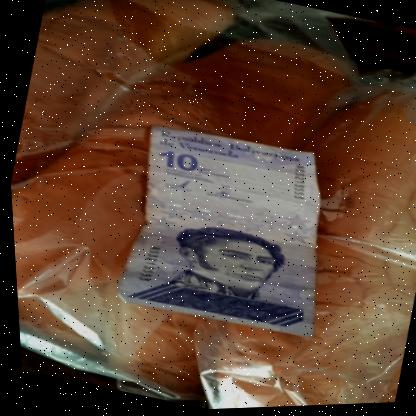ten-front-vef: (101, 112, 352, 351)
